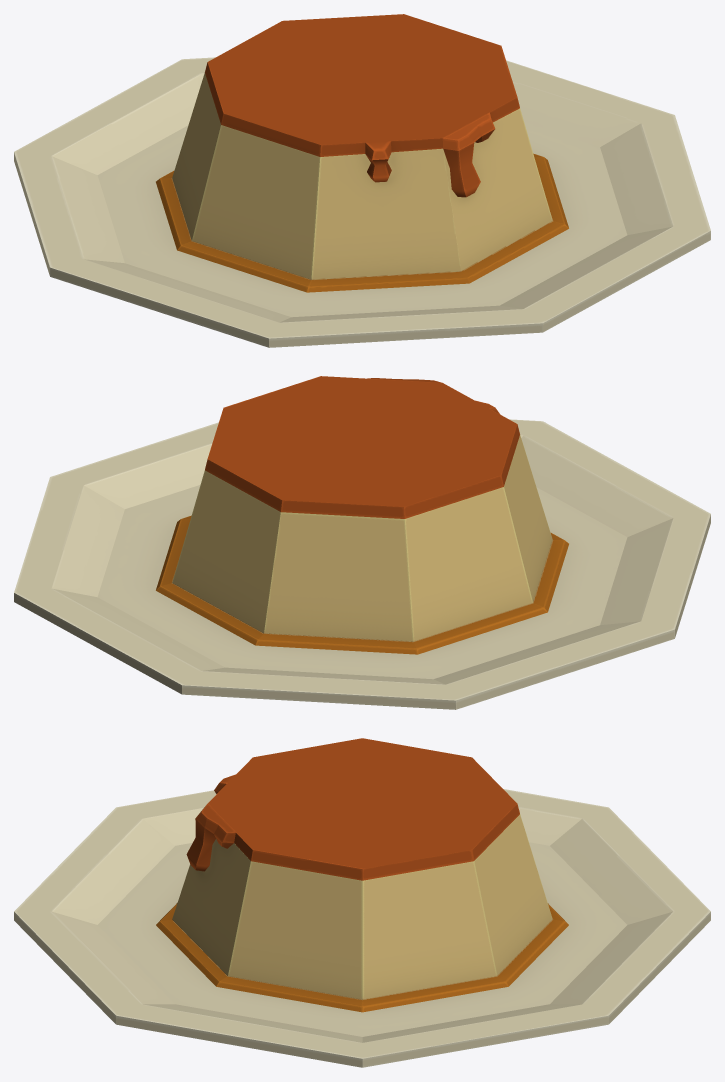
The model's file is flan.obj.
The picture shows the model from 3 angles, top to bottom: view 1: azimuth 30°, elevation 25°; view 2: azimuth 150°, elevation 25°; view 3: azimuth 270°, elevation 25°; orthographic projection. The views are drawn at different scales.
Visible parts, largest first — view 1: Flan_mesh; view 2: Flan_mesh; view 3: Flan_mesh.
Part boxes in pixels (<box>): Flan_mesh: <box>14,14,710,347</box>; Flan_mesh: <box>14,376,710,709</box>; Flan_mesh: <box>14,738,710,1067</box>.
Bounding box in the file's own units: 11.32 × 2.72 × 11.32.
Materials: 1 (1 with a texture image).
